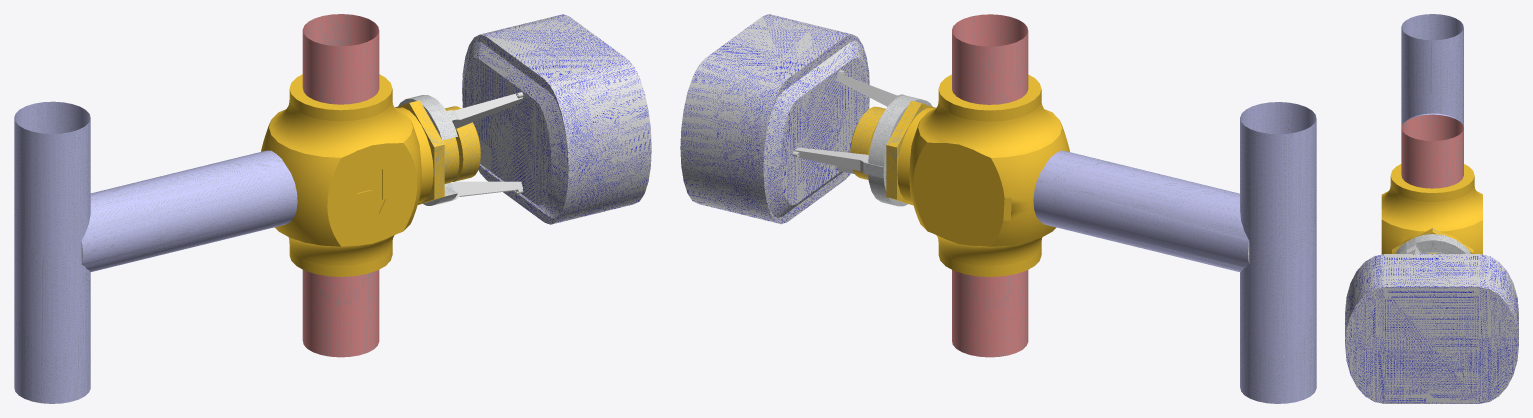
3 renders of one model, left to right at view 1: azimuth 30°, elevation 25°; view 2: azimuth 150°, elevation 25°; view 3: azimuth 270°, elevation 25°, orthographic. The views are drawn at different scales.
Parts seen in each view (by area): view 1: SketchUp (×2), group_1 (×2), Différence, group_0 (×3), group_6, group_7, group_2, group_4; view 2: SketchUp (×2), group_1 (×2), Différence (×2), group_0 (×2), group_6, group_5, group_2, group_7; view 3: group_1 (×2), SketchUp (×2), Différence, group_6 (×2), group_0.
Boxes of the visible parts, x1=… form: SketchUp (×2): x1=14, y1=14, x2=379, y2=403; group_1 (×2): x1=462, y1=14, x2=651, y2=224; Différence: x1=261, y1=74, x2=421, y2=276; group_0 (×3): x1=395, y1=100, x2=480, y2=204; group_6: x1=398, y1=95, x2=457, y2=205; group_7: x1=451, y1=92, x2=523, y2=128; group_2: x1=396, y1=107, x2=433, y2=203; group_4: x1=452, y1=181, x2=523, y2=198; SketchUp (×2): x1=952, y1=14, x2=1316, y2=403; group_1 (×2): x1=680, y1=14, x2=869, y2=224; Différence (×2): x1=909, y1=74, x2=1069, y2=276; group_0 (×2): x1=850, y1=100, x2=935, y2=205; group_6: x1=863, y1=94, x2=932, y2=206; group_5: x1=792, y1=147, x2=868, y2=172; group_2: x1=897, y1=108, x2=934, y2=203; group_7: x1=836, y1=70, x2=901, y2=106; group_1 (×2): x1=1345, y1=254, x2=1518, y2=403; SketchUp (×2): x1=1401, y1=14, x2=1463, y2=188; Différence: x1=1381, y1=164, x2=1482, y2=254; group_6 (×2): x1=1396, y1=234, x2=1470, y2=253; group_0: x1=1392, y1=228, x2=1473, y2=253.
Size of the model in its own units: 215 by 68.47 by 110.
